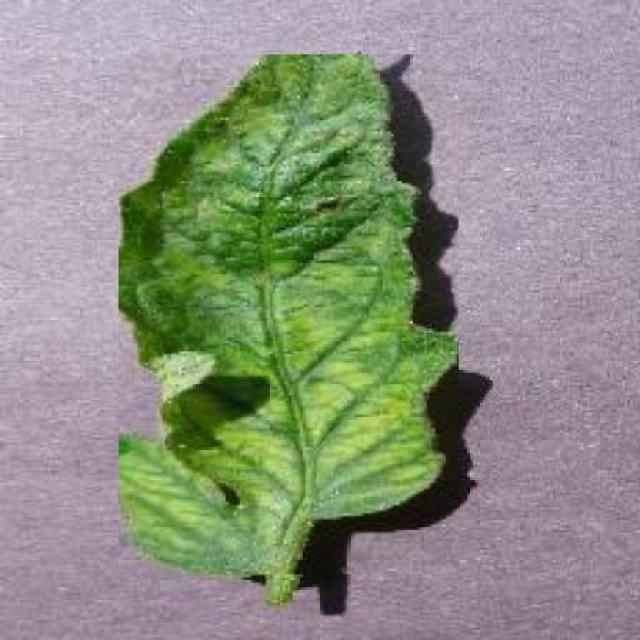Mosaic Virus: (119, 54, 458, 575)
